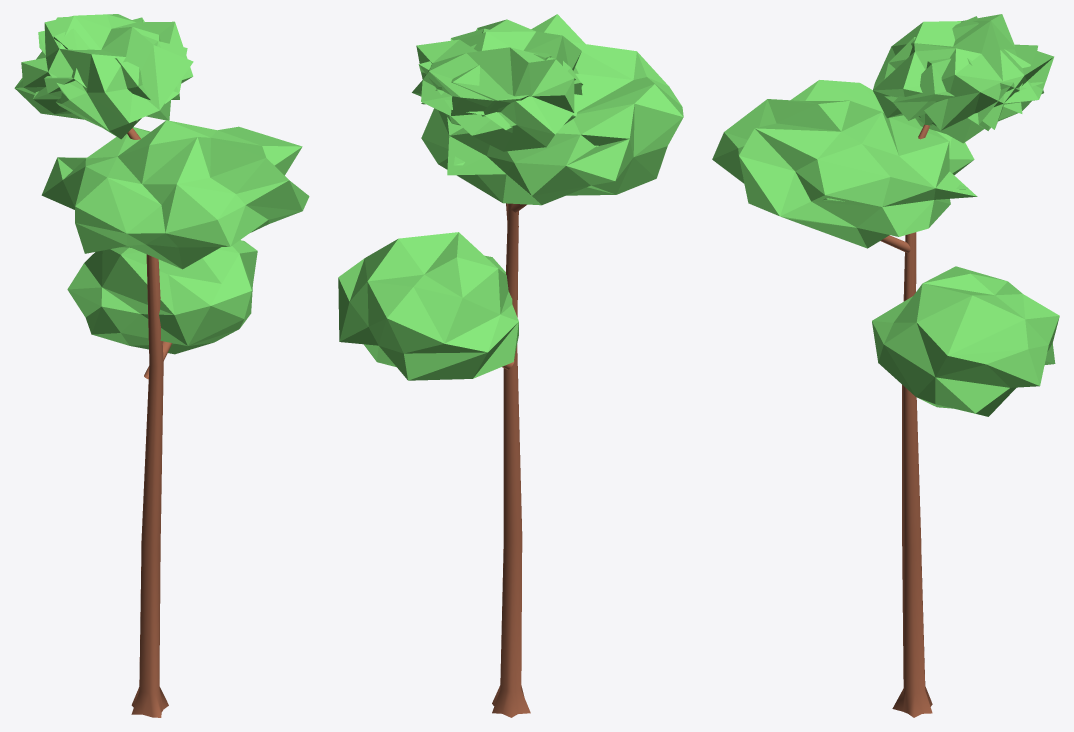
File: tree_1.glb
3 views of the same model, side by side, from view 1: azimuth 30°, elevation 25°; view 2: azimuth 150°, elevation 25°; view 3: azimuth 270°, elevation 25° (orthographic). The views are drawn at different scales.
Visible parts, largest first — view 1: Icosphere.010; view 2: Icosphere.010; view 3: Icosphere.010.
Boxes of the visible parts, x1,y1,x2,y2 form: Icosphere.010: [14, 14, 309, 717]; Icosphere.010: [338, 14, 683, 717]; Icosphere.010: [712, 14, 1059, 717].
Size of the model in its own units: 4.1 by 10.54 by 4.96.
